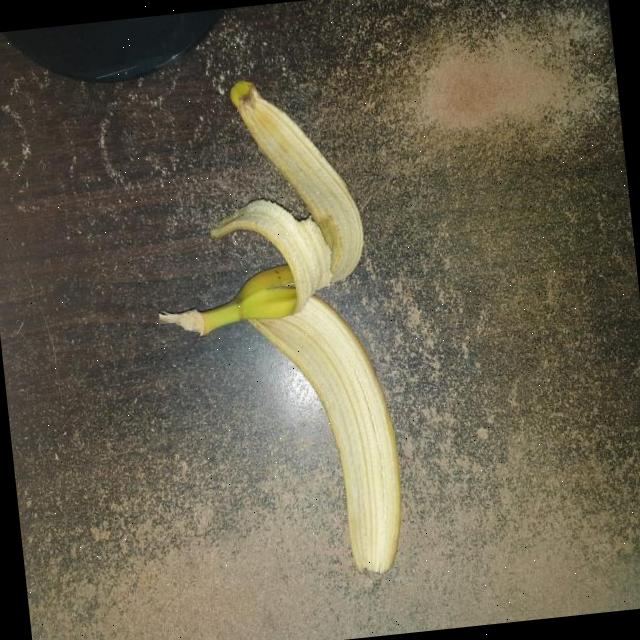banana-peel: (133, 65, 412, 596), (225, 67, 368, 292)
